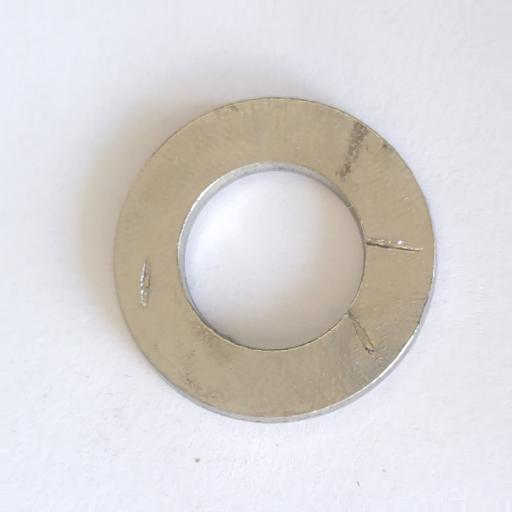scratch: (346, 307, 376, 353), (366, 236, 423, 252), (139, 257, 152, 307)
